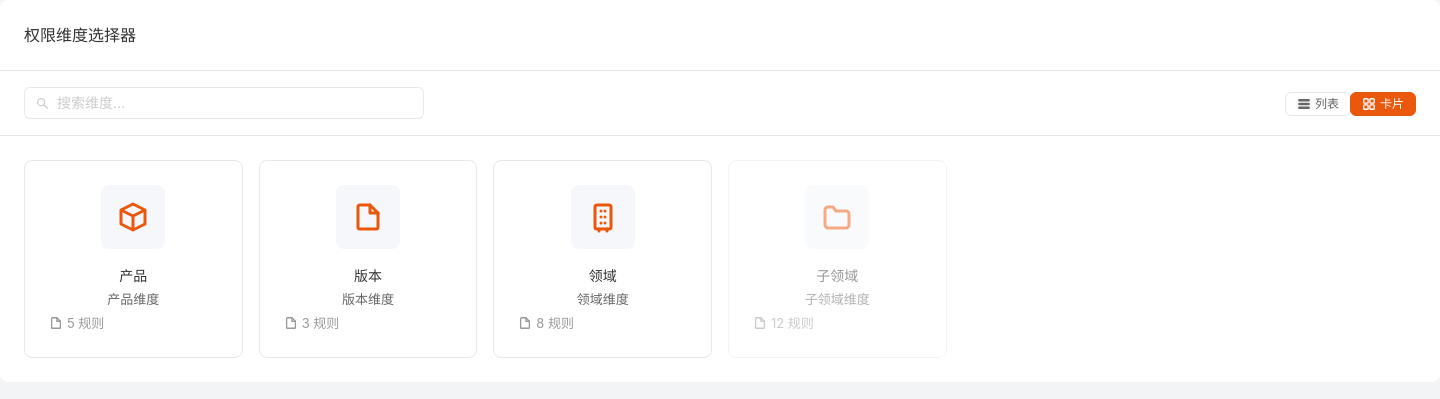
it: PermissionDimensionSelector › 应该支持按编码搜索
Type "DOMAIN" into the field with placeholder "搜索维度..." at (235, 103), box [57,88,413,118]
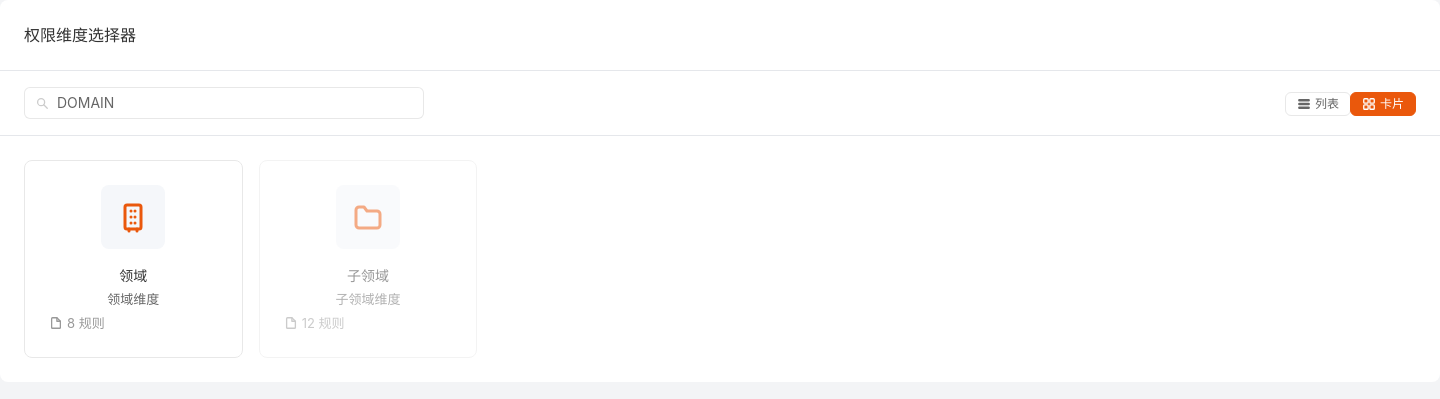
Result: the number of elements with class "dimension-item" is 2 at [24,160,243,358]; [259,160,477,358]
